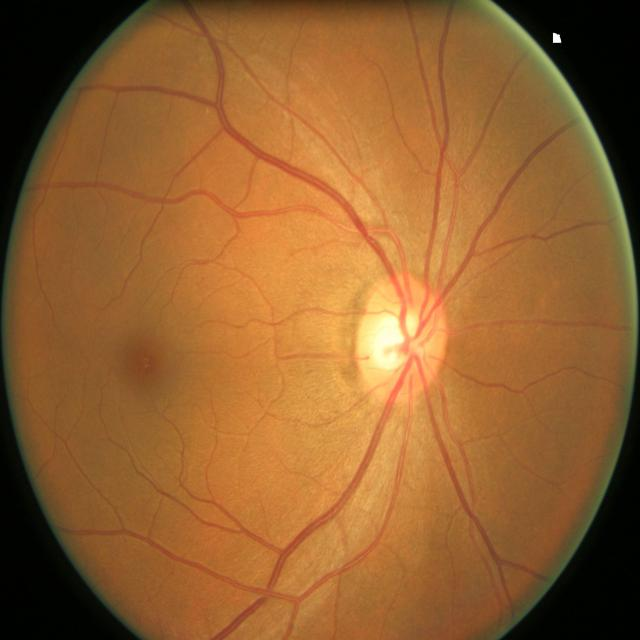OC: (370, 310, 425, 373)
OD: (356, 278, 450, 399)
